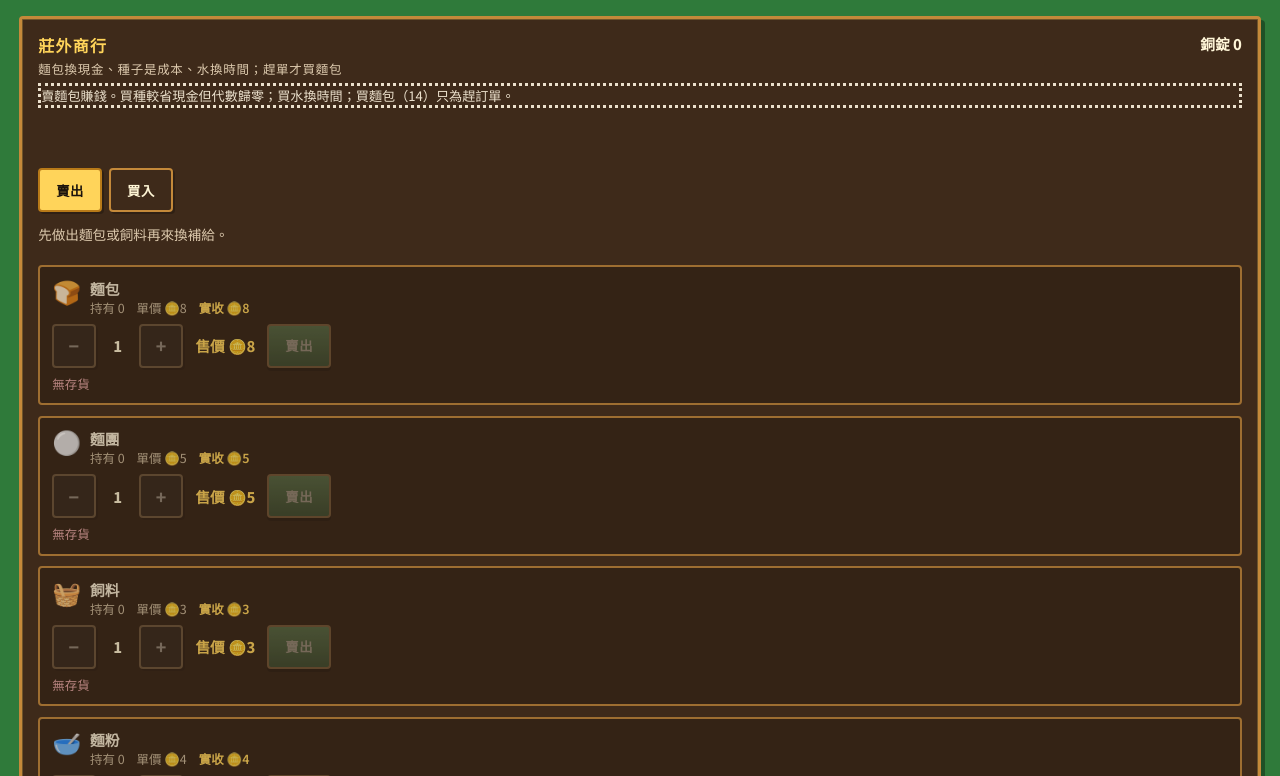
MarketPanel › disables buy when gold is insufficient
The width and height of the screenshot is (1280, 776).
Click the tab "買入": (141, 190) [109,168,173,212]
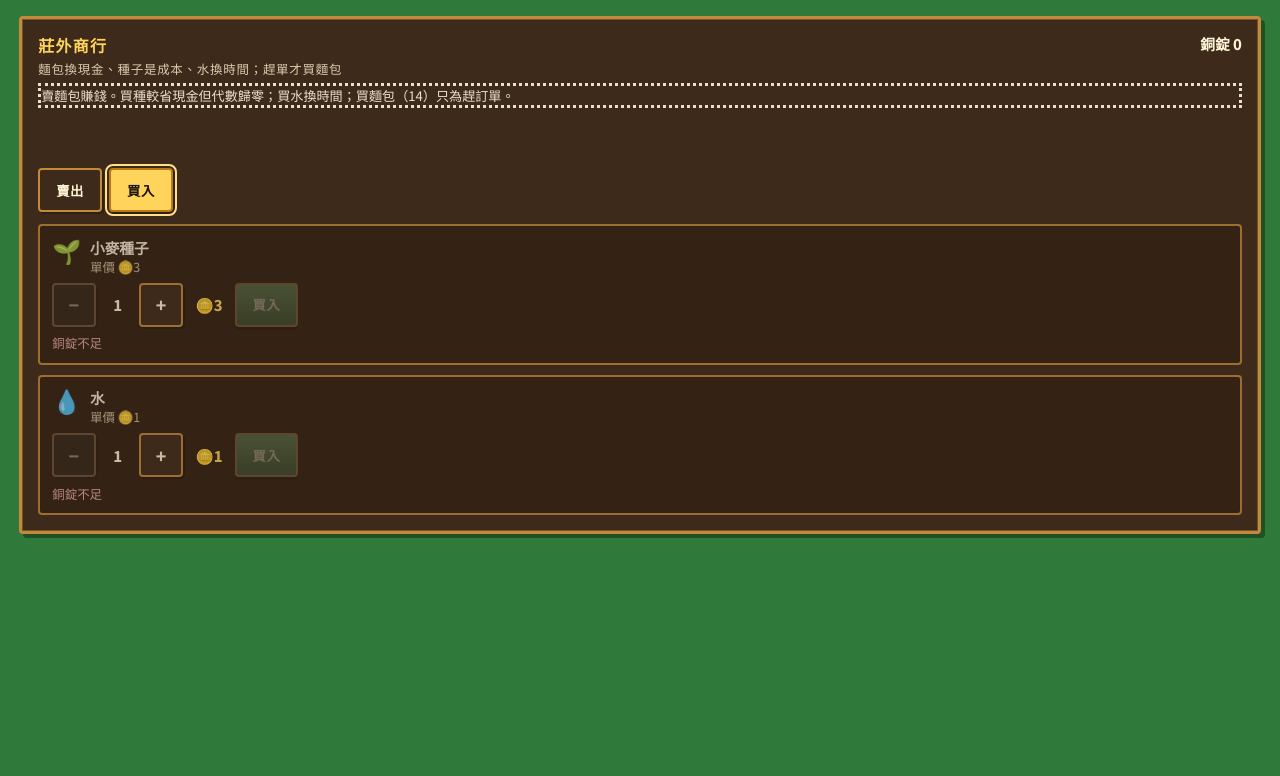
Check: the 2nd button "買入" is disabled, box [235,434,298,478]
Check: the 2nd text "銅錠不足" is shown, box [52,485,102,503]
